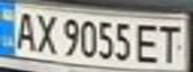0: (78, 17, 100, 60)
5: (112, 19, 136, 63), (96, 18, 115, 61)
9: (57, 15, 81, 57)
A: (9, 8, 39, 52)
E: (133, 20, 163, 64)
T: (154, 21, 187, 64)
X: (33, 10, 60, 54)
